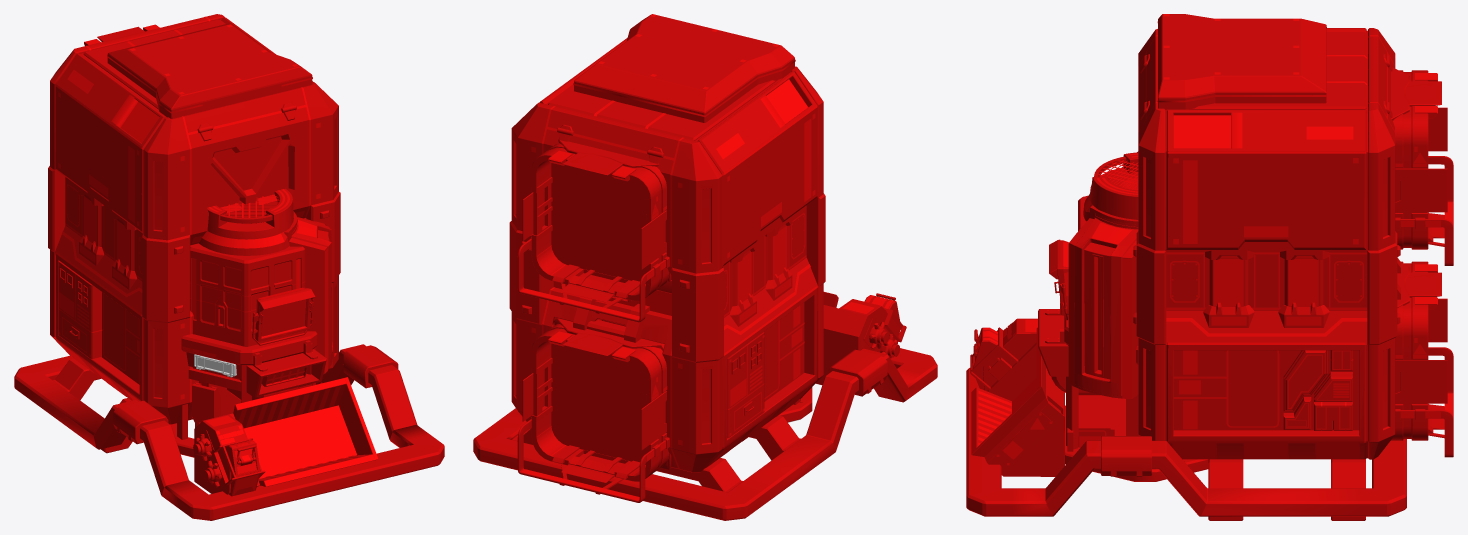
File: IndustrialHopper0.0.ex.fbx
3 views of the same model, side by side, from view 1: azimuth 30°, elevation 25°; view 2: azimuth 150°, elevation 25°; view 3: azimuth 270°, elevation 25° (orthographic). The views are drawn at different scales.
Parts seen in each view (by area): view 1: Miner_Mk3_Static; view 2: Miner_Mk3_Static; view 3: Miner_Mk3_Static.
Boxes of the visible parts, x1=… form: Miner_Mk3_Static: x1=14, y1=14, x2=444, y2=520; Miner_Mk3_Static: x1=473, y1=14, x2=937, y2=520; Miner_Mk3_Static: x1=966, y1=14, x2=1453, y2=520.
Size of the model in its own units: 495 by 646 by 693.
